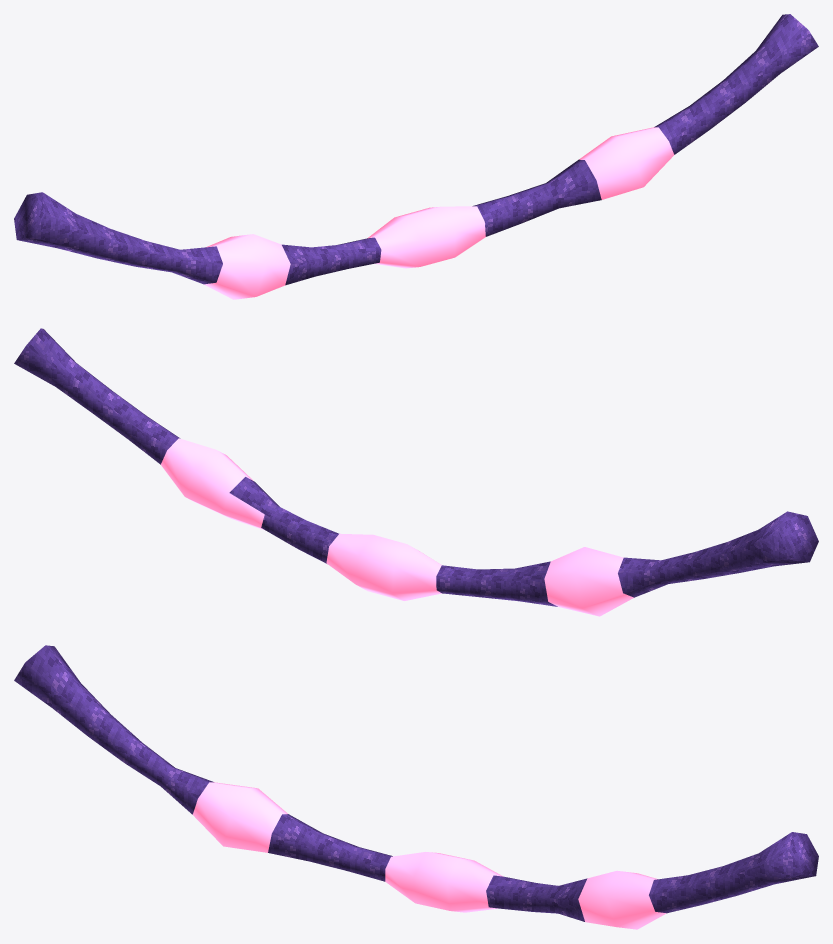
File: s_veincable.glb
The picture shows the model from 3 angles, top to bottom: view 1: azimuth 30°, elevation 25°; view 2: azimuth 150°, elevation 25°; view 3: azimuth 330°, elevation 25°; orthographic projection.
Parts seen in each view (by area): view 1: veincable_vc_vein_pulse; view 2: veincable_vc_vein_pulse; view 3: veincable_vc_vein_pulse.
Part boxes in pixels (x1,y1,x2,y2): veincable_vc_vein_pulse: (14, 14, 818, 299); veincable_vc_vein_pulse: (14, 328, 818, 616); veincable_vc_vein_pulse: (14, 645, 818, 929).
Size of what is drawn, in the model's own units: 4.12 by 0.8638 by 0.3686.
Materials: 2 (1 with a texture image).
